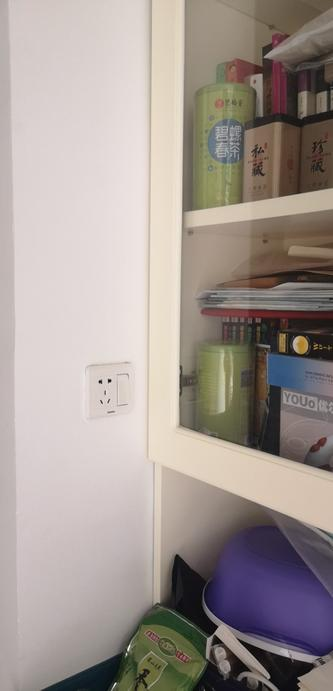switch: (113, 371, 133, 405)
